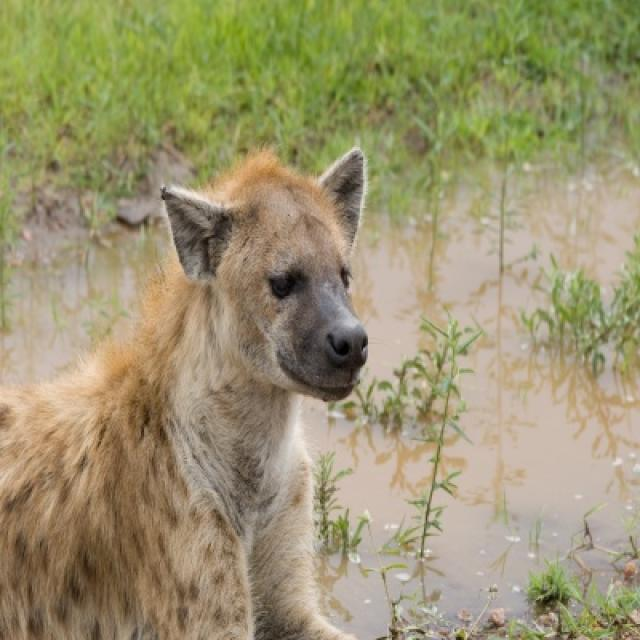hyena: (0, 149, 366, 638)
